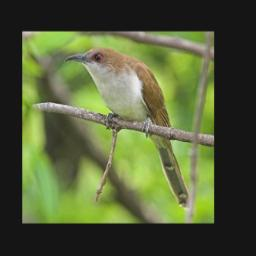Cuckoo: (64, 47, 189, 209)
